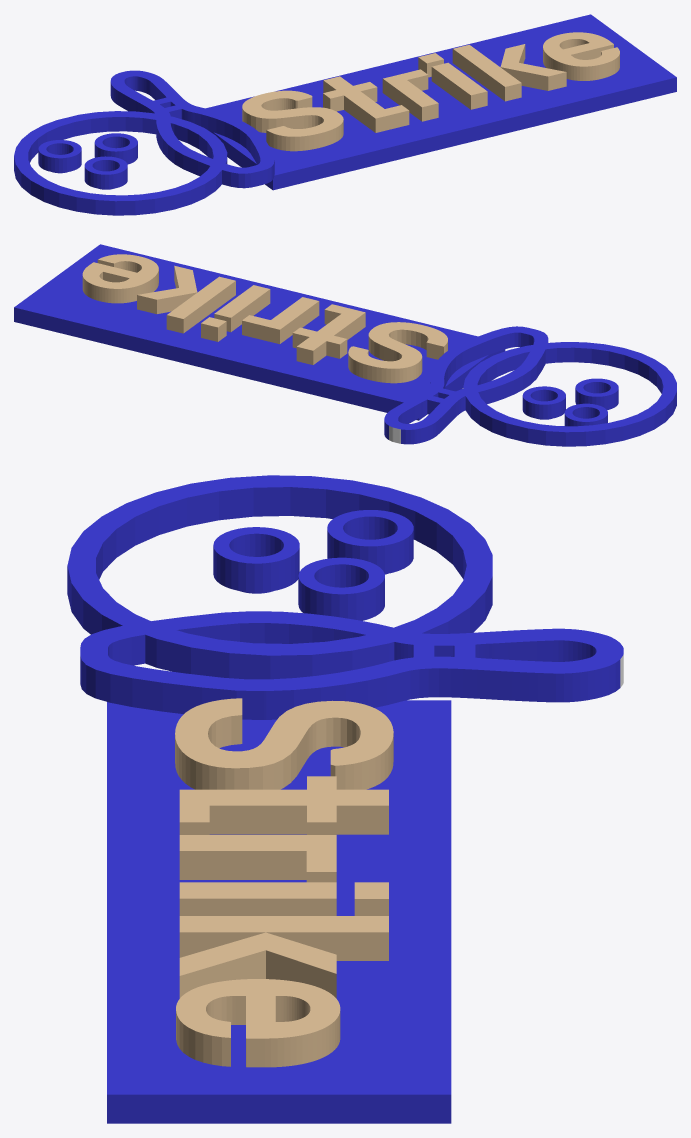
Rendered from strike-msg.dae.
The picture shows the model from 3 angles, top to bottom: view 1: azimuth 30°, elevation 25°; view 2: azimuth 150°, elevation 25°; view 3: azimuth 270°, elevation 25°; orthographic projection. The views are drawn at different scales.
Visible parts, largest first — view 1: group_1 (×4), block_2 (×8), group_2 (×5), group_0; view 2: group_1 (×4), block_2 (×8), group_2 (×5), group_0; view 3: group_1 (×4), block_2 (×8), group_2 (×8), group_0.
Part boxes in pixels (left/top/right/bottom): group_1 (×4): left=110, top=14, right=676, bottom=190; block_2 (×8): left=242, top=32, right=619, bottom=151; group_2 (×5): left=14, top=111, right=227, bottom=215; group_0: left=110, top=70, right=274, bottom=173; group_1 (×4): left=14, top=244, right=548, bottom=444; block_2 (×8): left=82, top=254, right=447, bottom=383; group_2 (×5): left=463, top=342, right=676, bottom=446; group_0: left=384, top=326, right=548, bottom=429; group_1 (×4): left=80, top=623, right=620, bottom=1123; block_2 (×8): left=175, top=698, right=393, bottom=1067; group_2 (×8): left=67, top=475, right=492, bottom=679; group_0: left=80, top=611, right=623, bottom=690.
Size of the model in its own units: 871 by 347 by 39.76.
